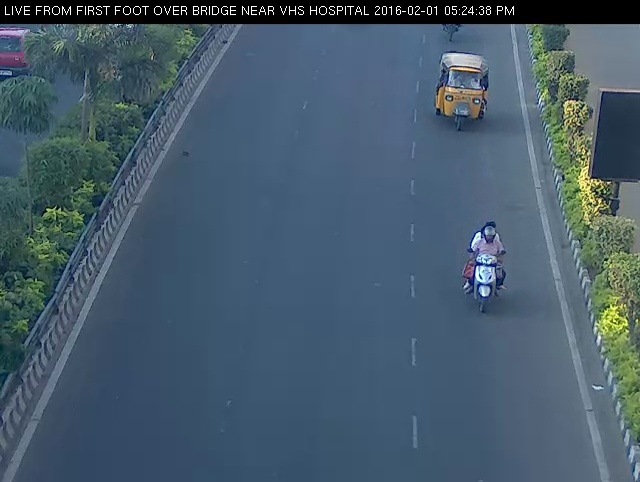Auto: (426, 47, 501, 137)
Person: (455, 214, 520, 322)
